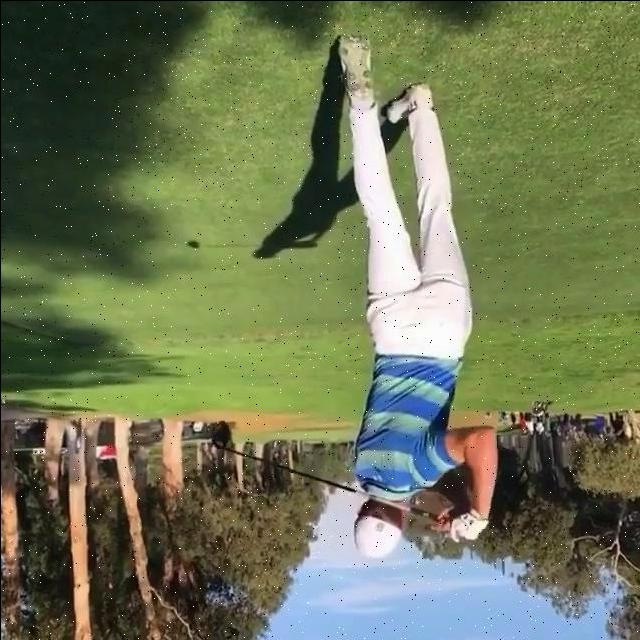golf club-handle: (211, 419, 440, 523)
golf club-head: (211, 420, 230, 448)
